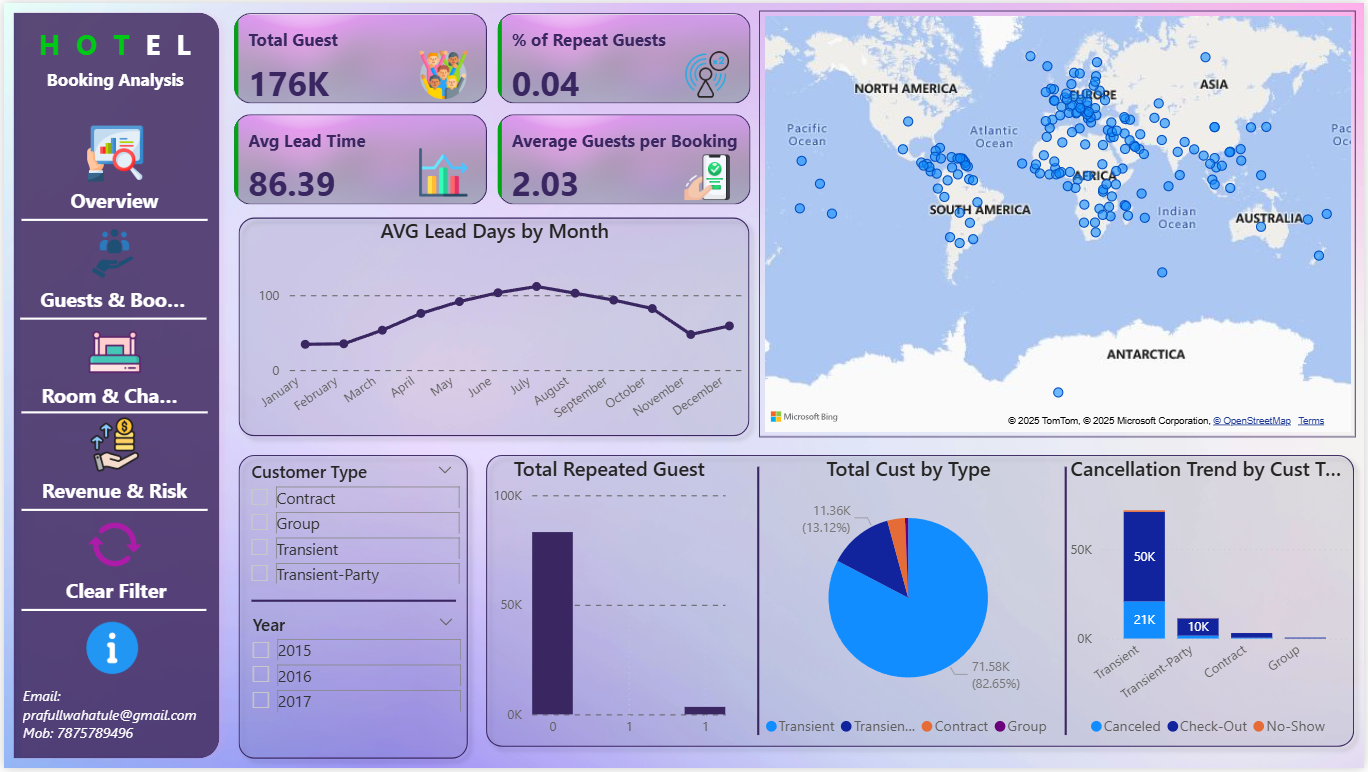

Layout of this report page (visuals, bound fields, positions):
{"tool":"powerbi","page":{"name":"Guest & Booking Analysis","canvas":[1280,720],"ordinal":1},"visuals":[{"type":"group","id":"g1","title":"Group 9","box":[0,0,211.8,720],"z":0,"group":"g10"},{"type":"shape","box":[0,0,211.8,720],"z":0,"group":"g3"},{"type":"group","id":"g2","title":"Group 3","box":[34.4,266.1,137.3,30.1],"z":0,"group":"g7"},{"type":"image","box":[64.9,573.3,75,68],"z":0,"group":"g6"},{"type":"group","id":"g3","title":"Group 1","box":[0,0,211.8,720],"z":500,"group":"g1"},{"type":"cardVisual","fields":{"Data":["Hotel Bookings.Total Guest","Hotel Bookings.% of Repeat Guests","Hotel Bookings.Avg Lead Time per Customer Type","Hotel Bookings.Average Guests per Booking"]},"box":[212,4.8,497.6,191.6],"z":1000,"group":"g10"},{"type":"textbox","box":[15.4,55.3,178.8,35],"z":1000,"group":"g6"},{"type":"group","id":"g4","title":"Group 4","box":[35.6,356.7,137.3,27.7],"z":1000,"group":"g7"},{"type":"map","fields":{"Category":["Hotel Bookings.country"]},"box":[710,7.5,561.2,401.2],"z":2000,"group":"g10"},{"type":"image","box":[66.9,385,74.7,61.4],"z":2000,"group":"g6"},{"type":"group","id":"g5","title":"Group 5","box":[35.6,446.5,137.3,27.7],"z":2000,"group":"g7"},{"type":"group","id":"g6","title":"Group 2","box":[12.9,15.3,182.5,626],"z":3000,"group":"g7"},{"type":"image","box":[66.9,110.7,75.2,62.7],"z":3000,"group":"g6"},{"type":"shape","box":[211.2,192.5,498.8,223.8],"z":3000,"group":"g10"},{"type":"image","box":[65,204.8,75.3,61.2],"z":4000,"group":"g6"},{"type":"shape","box":[445,416.2,835,292.5],"z":4000,"group":"g10"},{"type":"actionButton","title":"Guests & Booking","box":[34.4,266.1,137.3,30.1],"z":5000,"group":"g2"},{"type":"image","box":[66.6,297.9,74.7,61.4],"z":5000,"group":"g6"},{"type":"actionButton","title":"Room & Channel","box":[35.6,356.7,137.3,27.7],"z":5000,"group":"g4"},{"type":"shape","box":[211.2,416.2,233.8,303.8],"z":5000,"group":"g10"},{"type":"actionButton","title":"Revenue & Risk","box":[35.6,446.5,137.3,27.7],"z":5000,"group":"g5"},{"type":"actionButton","title":"Overview","box":[35.6,172.9,137.3,28.9],"z":6000,"group":"g6"},{"type":"slicer","fields":{"Values":["Hotel Bookings.arrival_date.Variation.Date Hierarchy.Year"]},"box":[221.2,568.8,213.8,140],"z":6000,"group":"g10"},{"type":"shape","box":[16.8,201.3,175.3,5.9],"z":7000,"group":"g6"},{"type":"slicer","fields":{"Values":["Hotel Bookings.customer_type"]},"box":[219.8,424.4,214,138.4],"z":7000,"group":"g10"},{"type":"shape","box":[15.6,294.2,175.3,5.9],"z":8000,"group":"g6"},{"type":"shape","box":[232.5,558.8,192.5,7.5],"z":8000,"group":"g10"},{"type":"shape","box":[16.8,382.4,175.3,5.9],"z":9000,"group":"g6"},{"type":"columnChart","title":"Total Repeated Guest","fields":{"Y":["CountNonNull(Hotel Bookings.booking_id)"],"Category":["Hotel Bookings.is_repeated_guest"]},"box":[455,425,228.8,275],"z":9000,"group":"g10"},{"type":"pieChart","title":"Total Cust by Type","fields":{"Category":["Hotel Bookings.customer_type"],"Y":["CountNonNull(Hotel Bookings.booking_id)"]},"box":[710,425,281.2,275],"z":10000,"group":"g10"},{"type":"shape","box":[16.8,474.2,175.3,5.9],"z":10000,"group":"g6"},{"type":"shape","box":[702.5,436.2,15,252.5],"z":11000,"group":"g10"},{"type":"shape","box":[16.9,568.3,174,6],"z":11000,"group":"g6"},{"type":"textbox","box":[12.9,15.3,182.5,52.5],"z":12000,"group":"g6"},{"type":"shape","box":[991.2,436.2,15,252.5],"z":12000,"group":"g10"},{"type":"lineChart","title":"AVG Lead Days by Month","fields":{"Y":["Avg(Hotel Bookings.lead_time)"],"Category":["Hotel Bookings.arrival_date.Variation.Date Hierarchy.Month"]},"box":[221.2,201.2,481.2,207.5],"z":13000,"group":"g10"},{"type":"columnChart","title":"Cancellation Trend by Cust Type","fields":{"Category":["Hotel Bookings.customer_type"],"Y":["CountNonNull(Hotel Bookings.booking_id)"],"Series":["Hotel Bookings.reservation_status"]},"box":[998.8,425,272.5,275],"z":14000,"group":"g10"},{"type":"image","box":[383.1,40,60,55.4],"z":15000,"group":"g10"},{"type":"group","id":"g7","title":"Group 8","box":[12.9,15.3,182.5,626],"z":16000,"group":"g1"},{"type":"image","box":[631.5,40,60,55.4],"z":16000,"group":"g10"},{"type":"image","box":[631.5,136.9,60,55.4],"z":17000,"group":"g10"},{"type":"actionButton","title":"Clear Filter","box":[36.4,540.1,138,28],"z":17500,"group":"g8"},{"type":"image","box":[383.1,132.3,60,55.4],"z":18000,"group":"g10"},{"type":"group","id":"g8","title":"Group 7","box":[36.4,540.1,138,28],"z":19000,"group":"g9"},{"type":"image","box":[67.2,478.6,74.3,61.4],"z":19001,"group":"g9"},{"type":"group","id":"g9","title":"Group 6","box":[36.4,478.6,138,89.5],"z":19002,"group":"g10"},{"type":"group","id":"g10","title":"Group 10","box":[0,0,1280,720],"z":19003,"group":"g11"},{"type":"textbox","box":[12.9,637.1,184.3,68.6],"z":19004,"group":"g11"},{"type":"group","id":"g11","title":"Group 11","box":[0,0,1280,720],"z":19005}]}

Visuals, with their boxes in screenshot pixels (x1, y1, x2, y2), scaled from the page's 1280x720 canvas onto the 1368x772 screenshot:
"Group 9" group: x1=0 y1=0 x2=226 y2=771
shape: x1=0 y1=0 x2=226 y2=771
"Group 3" group: x1=37 y1=285 x2=184 y2=318
image: x1=69 y1=615 x2=150 y2=688
"Group 1" group: x1=0 y1=0 x2=226 y2=771
cardVisual - Hotel Bookings.Total Guest x Hotel Bookings.% of Repeat Guests: x1=227 y1=5 x2=758 y2=211
textbox: x1=16 y1=59 x2=208 y2=97
"Group 4" group: x1=38 y1=382 x2=185 y2=412
map - Hotel Bookings.country: x1=759 y1=8 x2=1359 y2=438
image: x1=71 y1=413 x2=151 y2=479
"Group 5" group: x1=38 y1=479 x2=185 y2=508
"Group 2" group: x1=14 y1=16 x2=209 y2=688
image: x1=71 y1=119 x2=152 y2=186
shape: x1=226 y1=206 x2=759 y2=446
image: x1=69 y1=220 x2=150 y2=285
shape: x1=476 y1=446 x2=1367 y2=760
"Guests & Booking" actionButton: x1=37 y1=285 x2=184 y2=318
image: x1=71 y1=319 x2=151 y2=385
"Room & Channel" actionButton: x1=38 y1=382 x2=185 y2=412
shape: x1=226 y1=446 x2=476 y2=771
"Revenue & Risk" actionButton: x1=38 y1=479 x2=185 y2=508
"Overview" actionButton: x1=38 y1=185 x2=185 y2=216
slicer - Hotel Bookings.arrival_date.Variation.Date Hierarchy.Year: x1=236 y1=610 x2=465 y2=760
shape: x1=18 y1=216 x2=205 y2=222
slicer - Hotel Bookings.customer_type: x1=235 y1=455 x2=464 y2=603
shape: x1=17 y1=315 x2=204 y2=322
shape: x1=248 y1=599 x2=454 y2=607
shape: x1=18 y1=410 x2=205 y2=416
"Total Repeated Guest" columnChart: x1=486 y1=456 x2=731 y2=751
"Total Cust by Type" pieChart: x1=759 y1=456 x2=1059 y2=751
shape: x1=18 y1=508 x2=205 y2=515
shape: x1=751 y1=468 x2=767 y2=738
shape: x1=18 y1=609 x2=204 y2=616
textbox: x1=14 y1=16 x2=209 y2=73
shape: x1=1059 y1=468 x2=1075 y2=738
"AVG Lead Days by Month" lineChart: x1=236 y1=216 x2=751 y2=438
"Cancellation Trend by Cust Type" columnChart: x1=1067 y1=456 x2=1359 y2=751
image: x1=409 y1=43 x2=474 y2=102
"Group 8" group: x1=14 y1=16 x2=209 y2=688
image: x1=675 y1=43 x2=739 y2=102
image: x1=675 y1=147 x2=739 y2=206
"Clear Filter" actionButton: x1=39 y1=579 x2=186 y2=609
image: x1=409 y1=142 x2=474 y2=201
"Group 7" group: x1=39 y1=579 x2=186 y2=609
image: x1=72 y1=513 x2=151 y2=579
"Group 6" group: x1=39 y1=513 x2=186 y2=609
"Group 10" group: x1=0 y1=0 x2=1367 y2=771
textbox: x1=14 y1=683 x2=211 y2=757
"Group 11" group: x1=0 y1=0 x2=1367 y2=771
